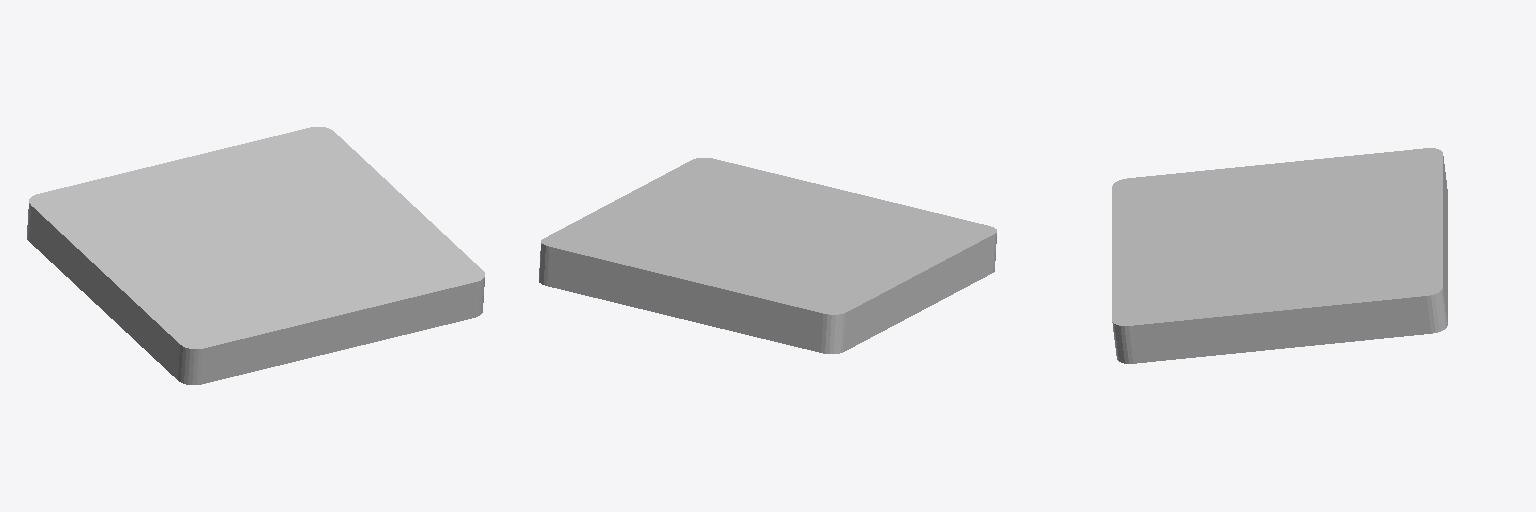
Rendered from original-51.obj.
The picture shows the model from 3 angles: view 1: azimuth 30°, elevation 25°; view 2: azimuth 150°, elevation 25°; view 3: azimuth 270°, elevation 25°; orthographic projection.
Parts seen in each view (by area): view 1: mesh50/mesh50-geometry#mesh50-geometry; view 2: mesh50/mesh50-geometry#mesh50-geometry; view 3: mesh50/mesh50-geometry#mesh50-geometry.
Boxes of the visible parts, x1,y1,x2,y2 form: mesh50/mesh50-geometry#mesh50-geometry: [27, 127, 484, 384]; mesh50/mesh50-geometry#mesh50-geometry: [539, 158, 996, 353]; mesh50/mesh50-geometry#mesh50-geometry: [1112, 148, 1447, 363].
Bounding box in the file's own units: 0.1061 × 0.0238 × 0.1019.